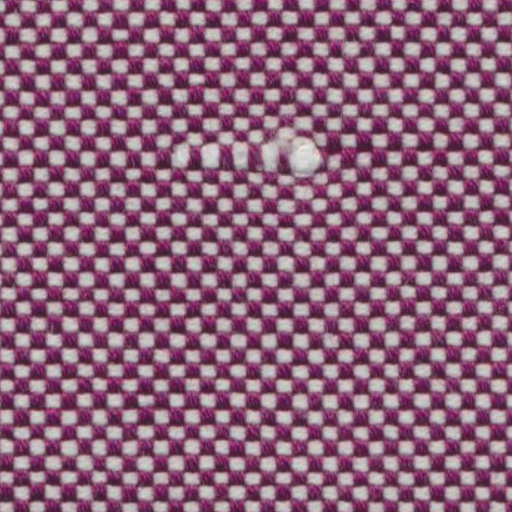DaiSha: (146, 128, 352, 198)
